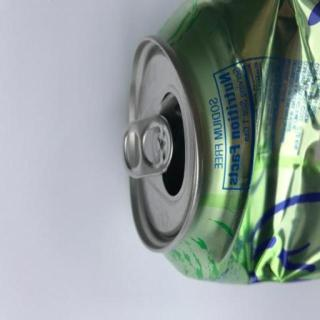Anorganik: (119, 0, 320, 292)
